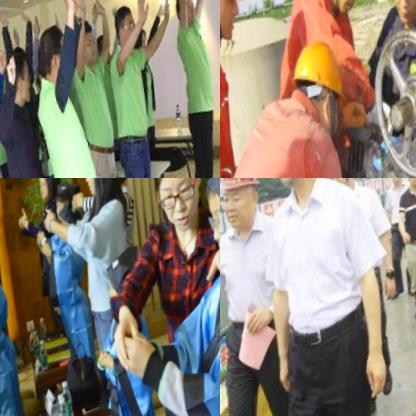head: (143, 178, 210, 241), (34, 26, 71, 94), (4, 51, 35, 111), (50, 182, 83, 227), (74, 23, 102, 76), (112, 9, 140, 57), (78, 178, 119, 206), (173, 0, 201, 38), (30, 178, 60, 208), (94, 33, 114, 71), (132, 28, 150, 65), (100, 178, 136, 191)
helmet: (286, 32, 356, 143), (220, 178, 269, 238), (325, 178, 366, 198), (386, 178, 407, 195), (403, 178, 416, 194)
